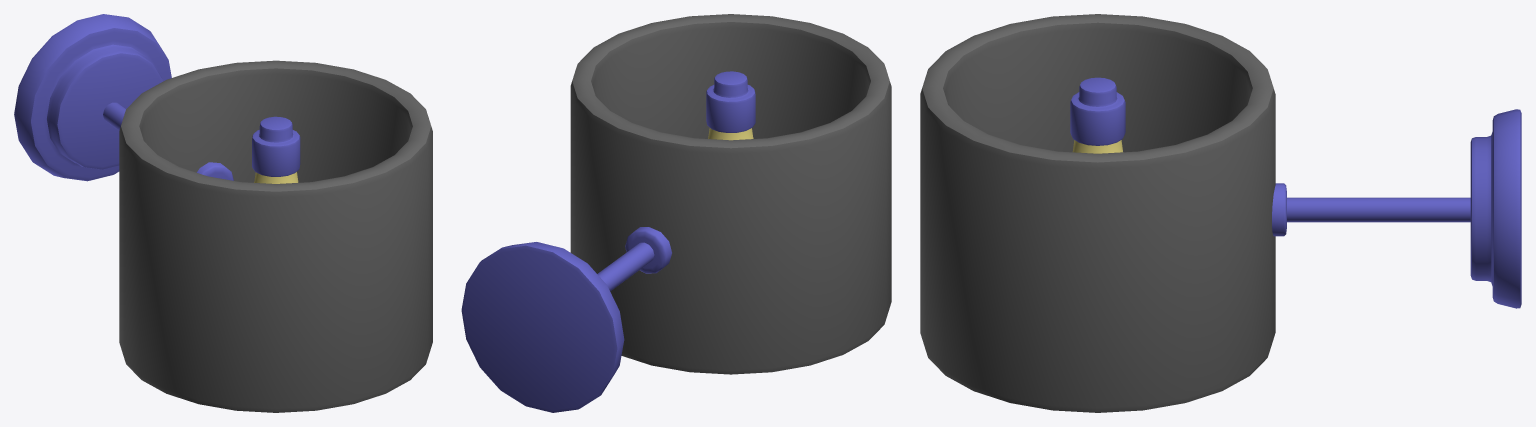
File: SM_lamp_wall_04.fbx
3 views of the same model, side by side, from view 1: azimuth 30°, elevation 25°; view 2: azimuth 150°, elevation 25°; view 3: azimuth 270°, elevation 25° (orthographic). The views are drawn at different scales.
Parts seen in each view (by area): view 1: Cylinder039; view 2: Cylinder039; view 3: Cylinder039.
Part boxes in pixels (x1=…): Cylinder039: x1=14, y1=14, x2=432, y2=412; Cylinder039: x1=461, y1=14, x2=891, y2=412; Cylinder039: x1=920, y1=14, x2=1521, y2=412.
Size of the model in its own units: 23.69 by 18.86 by 40.11.
